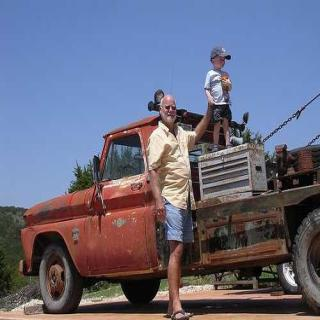Towing_truck: (17, 88, 319, 316)
